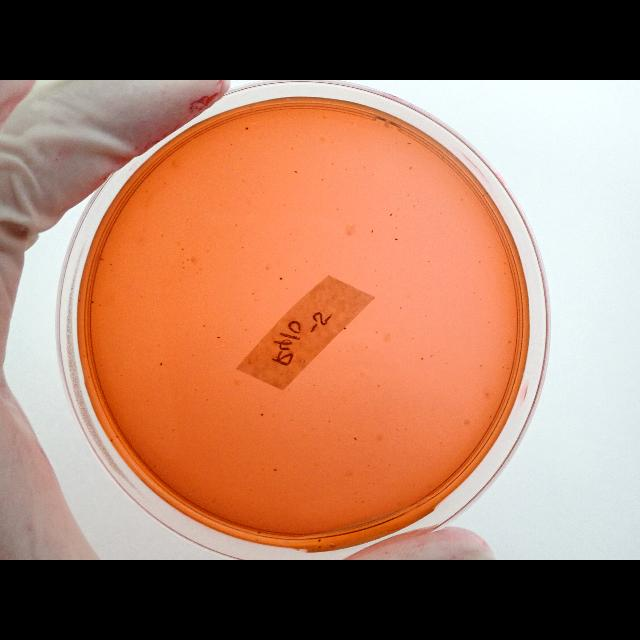colony: (353, 436, 357, 442), (245, 126, 249, 132), (260, 413, 264, 417), (100, 258, 104, 262), (294, 170, 298, 174), (159, 362, 163, 366), (110, 438, 114, 442), (317, 538, 321, 542), (508, 340, 512, 344), (478, 260, 482, 264), (144, 189, 148, 193), (430, 354, 434, 358), (424, 314, 428, 318), (328, 421, 332, 424), (202, 324, 205, 328), (92, 300, 95, 304), (187, 258, 190, 262), (172, 428, 175, 432), (322, 115, 326, 118), (371, 229, 374, 233), (343, 326, 347, 329), (374, 331, 378, 334), (292, 146, 294, 150), (266, 266, 268, 270), (280, 276, 282, 280), (407, 142, 411, 144), (480, 364, 482, 368), (98, 304, 102, 306), (296, 134, 298, 138), (394, 238, 398, 240), (396, 226, 398, 230), (274, 468, 276, 472), (292, 466, 296, 468), (338, 350, 342, 352), (420, 358, 424, 360), (400, 306, 402, 310), (428, 260, 430, 264), (217, 336, 220, 338), (255, 299, 258, 301), (115, 436, 118, 438), (410, 167, 412, 170), (406, 194, 409, 196), (242, 180, 245, 182), (362, 501, 364, 504), (346, 350, 349, 352), (110, 263, 112, 265), (230, 143, 232, 145), (240, 158, 242, 160), (321, 178, 323, 180), (332, 163, 334, 165), (345, 168, 347, 170), (336, 208, 338, 210), (290, 233, 292, 235), (252, 293, 254, 295), (286, 287, 288, 289), (305, 261, 307, 263), (390, 214, 392, 216), (395, 215, 397, 217), (486, 192, 488, 194), (482, 195, 484, 197), (78, 299, 80, 301), (121, 374, 123, 376), (88, 376, 90, 378), (258, 532, 260, 534), (490, 416, 492, 418), (488, 322, 490, 324), (473, 292, 475, 294), (480, 299, 482, 301), (492, 257, 494, 259), (504, 273, 506, 275), (504, 262, 506, 264), (488, 246, 490, 248), (440, 212, 442, 214), (461, 199, 463, 201), (413, 205, 415, 207), (397, 208, 399, 210), (284, 204, 286, 206), (182, 248, 184, 250), (182, 267, 184, 269), (196, 272, 198, 274), (207, 250, 209, 252), (119, 347, 121, 349), (206, 399, 208, 401), (195, 389, 197, 391), (147, 400, 149, 402), (141, 296, 143, 298), (164, 182, 166, 184), (262, 469, 264, 471), (368, 464, 370, 466), (389, 464, 391, 466), (355, 491, 357, 493), (366, 346, 368, 348), (412, 337, 414, 339), (376, 284, 378, 286), (374, 270, 376, 272), (161, 236, 163, 237), (372, 482, 373, 484), (294, 270, 296, 270), (250, 490, 252, 490)
